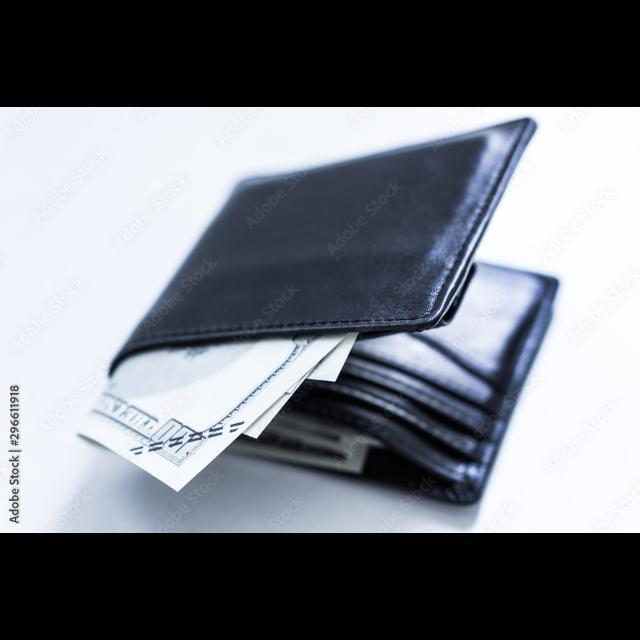wallet: (104, 127, 576, 525)
